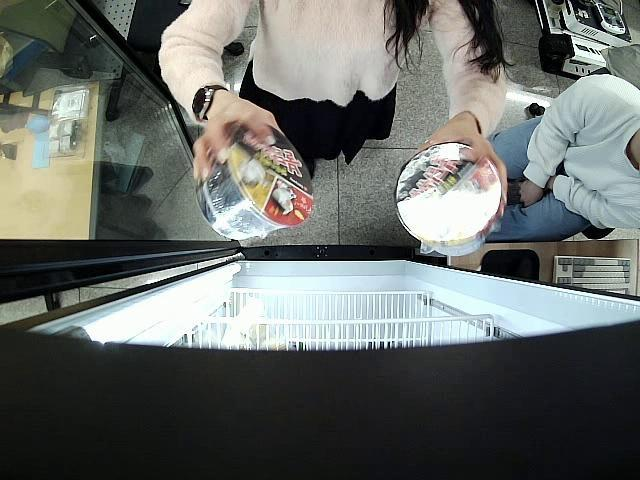07_buldak_L: (194, 118, 316, 242), (396, 142, 502, 259)
